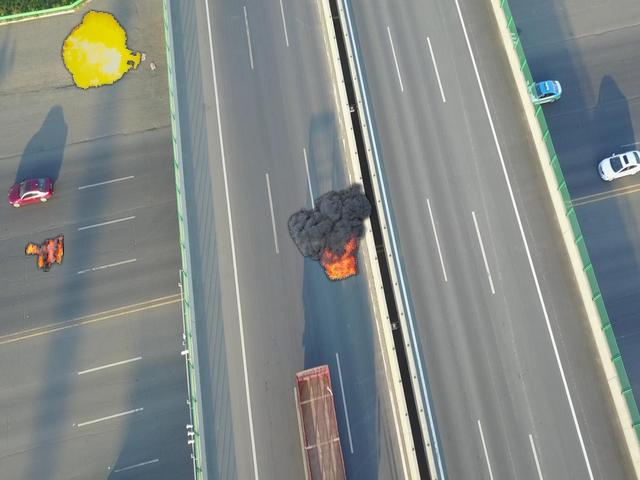fire: (285, 180, 373, 282), (61, 10, 141, 88), (26, 234, 63, 270)
